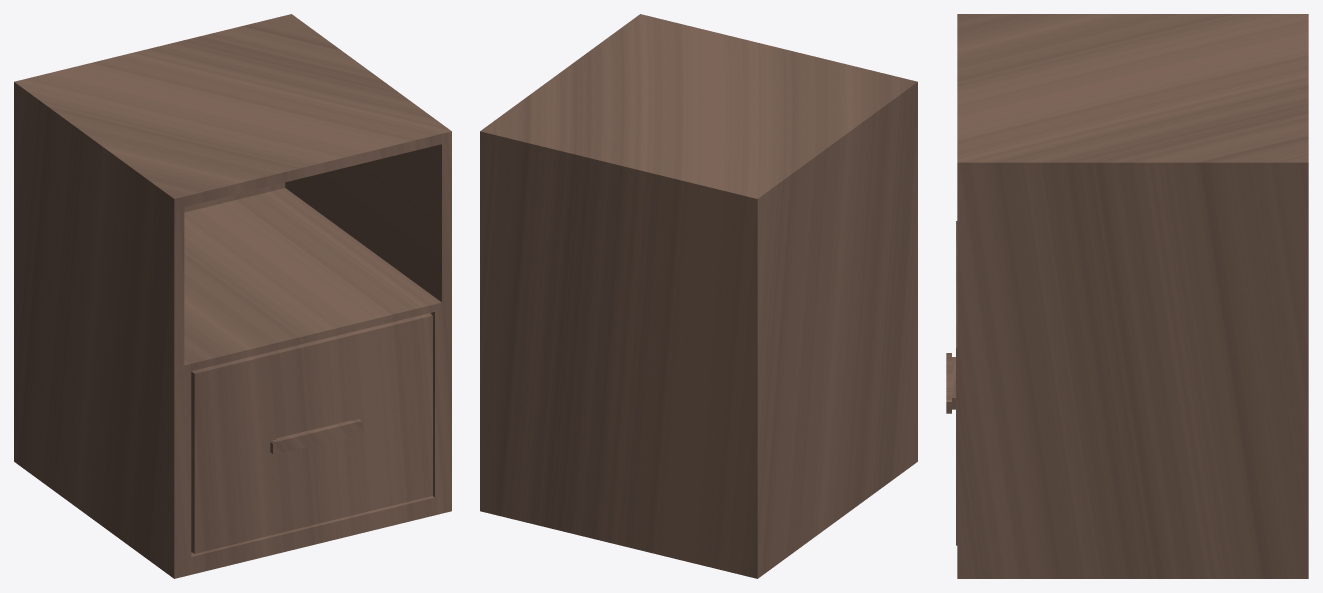
File: yöpöytä.fbx
The picture shows the model from 3 angles, left to right: view 1: azimuth 30°, elevation 25°; view 2: azimuth 150°, elevation 25°; view 3: azimuth 270°, elevation 25°; orthographic projection. The views are drawn at different scales.
Parts seen in each view (by area): view 1: Cube; view 2: Cube; view 3: Cube.
Boxes of the visible parts, x1=… form: Cube: x1=14, y1=14, x2=451, y2=578; Cube: x1=480, y1=14, x2=917, y2=578; Cube: x1=946, y1=14, x2=1308, y2=578.
Size of the model in its own units: 35.88 by 46.91 by 36.99.
1 material, 1 textured.
